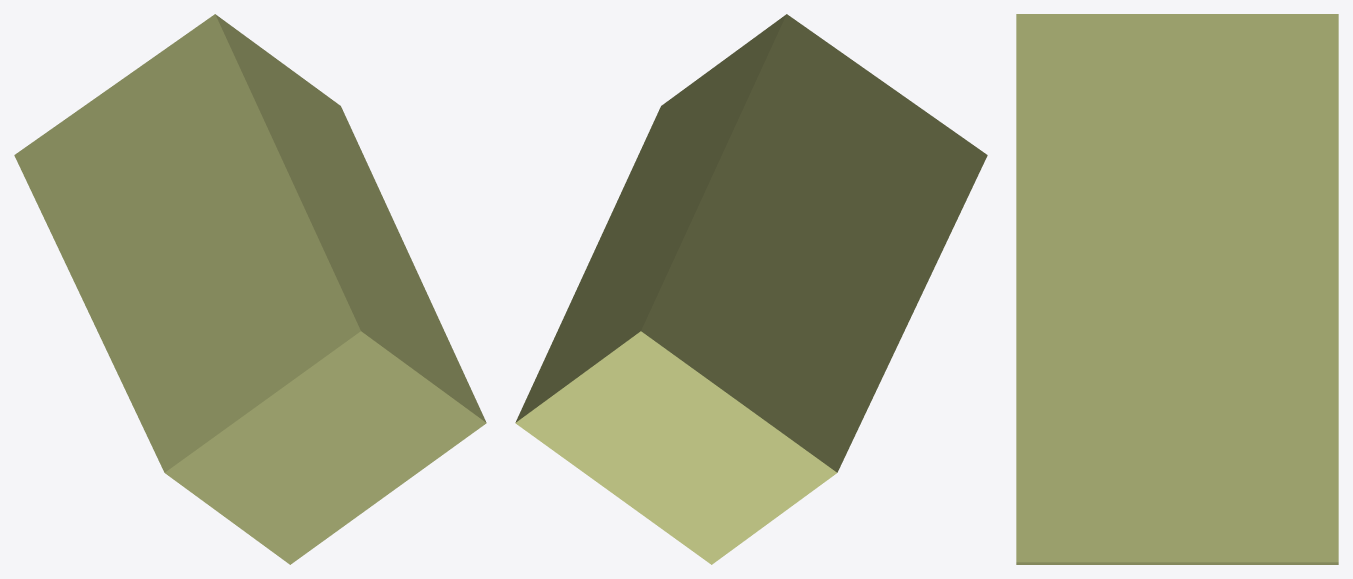
3 views of the same model, side by side, from view 1: azimuth 30°, elevation 25°; view 2: azimuth 150°, elevation 25°; view 3: azimuth 270°, elevation 25° (orthographic). The views are drawn at different scales.
Visible parts, largest first — view 1: 0_1_0_2_0_3_0_1_1_1_1; view 2: 0_1_0_2_0_3_0_1_1_1_1; view 3: 0_1_0_2_0_3_0_1_1_1_1.
Boxes of the visible parts, x1,y1,x2,y2 form: 0_1_0_2_0_3_0_1_1_1_1: [14, 14, 486, 564]; 0_1_0_2_0_3_0_1_1_1_1: [515, 14, 987, 564]; 0_1_0_2_0_3_0_1_1_1_1: [1016, 14, 1338, 564].
Size of the model in its own units: 9.55 by 11.75 by 6.
